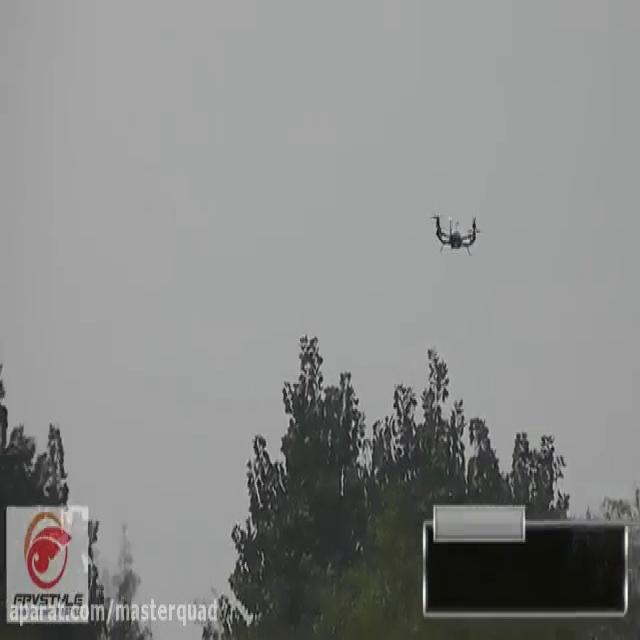drone: (426, 206, 485, 258)
